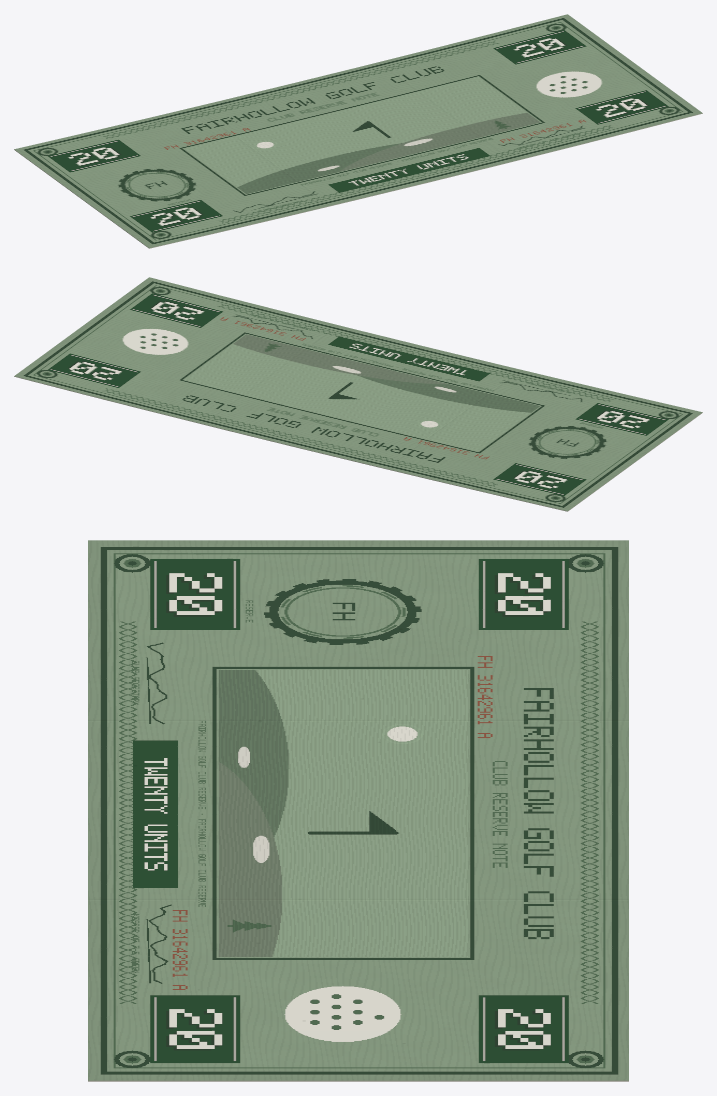
Rendered from cash_bill_20.glb.
3 views of the same model, one above another, from view 1: azimuth 30°, elevation 25°; view 2: azimuth 150°, elevation 25°; view 3: azimuth 270°, elevation 25° (orthographic). The views are drawn at different scales.
Parts seen in each view (by area): view 1: Bill_Body; view 2: Bill_Body; view 3: Bill_Body.
Part boxes in pixels (x1,y1,x2,y2): Bill_Body: (14,14,702,248); Bill_Body: (14,277,702,511); Bill_Body: (88,540,628,1081).
Size of the model in its own units: 0.156 by 0.00067 by 0.066.
1 material, 1 textured.
